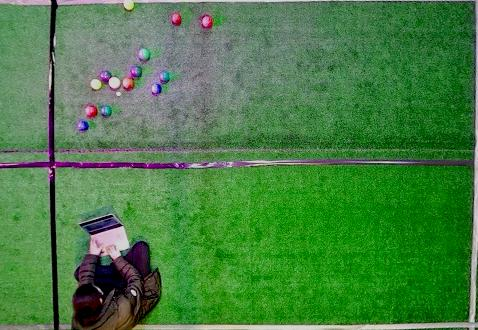blue: (77, 120, 89, 132), (151, 84, 162, 94)
green: (100, 105, 112, 117), (138, 48, 150, 60), (100, 70, 112, 81), (131, 66, 142, 77), (159, 72, 169, 83)
red: (201, 15, 213, 28), (85, 105, 97, 117), (109, 77, 121, 89), (123, 77, 134, 90), (171, 13, 182, 25)
vline: (1, 1, 61, 329), (466, 1, 477, 329)
white: (116, 92, 121, 96)
yellow: (90, 79, 102, 90), (122, 1, 134, 10)
